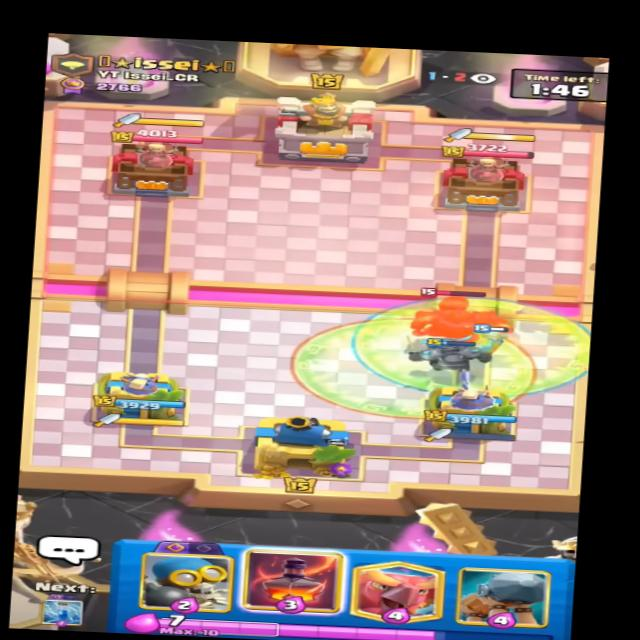goblin-curse: (288, 316, 540, 426)
goblin-machine: (403, 284, 513, 347)
